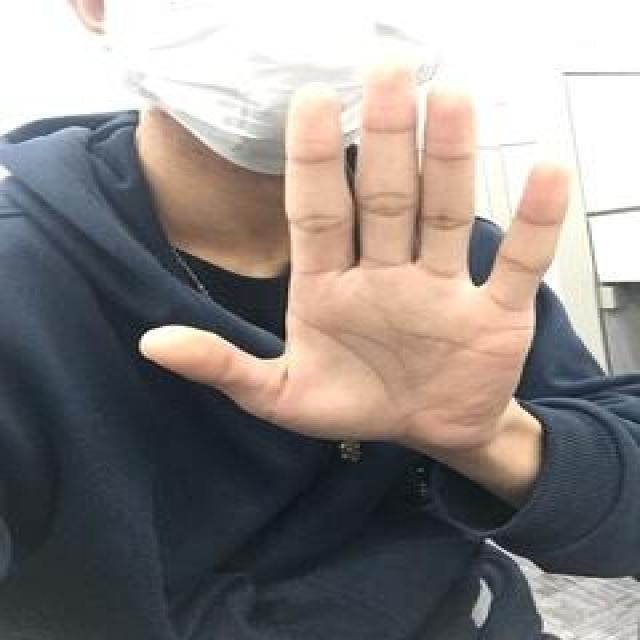no-gloves: (136, 50, 579, 452)
